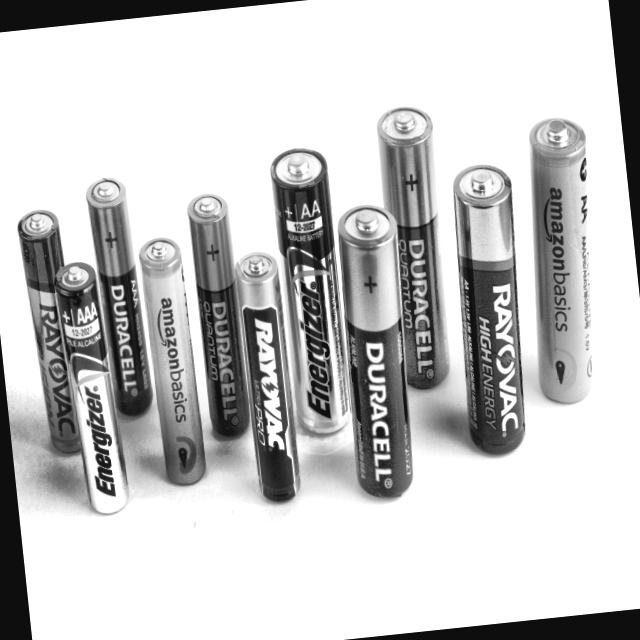Battery: (512, 116, 614, 410), (444, 160, 536, 450), (332, 207, 420, 496), (270, 148, 354, 439), (377, 106, 459, 386), (54, 260, 126, 513), (234, 252, 302, 500), (85, 176, 154, 416), (140, 238, 206, 488), (18, 209, 82, 448), (188, 195, 251, 434)
